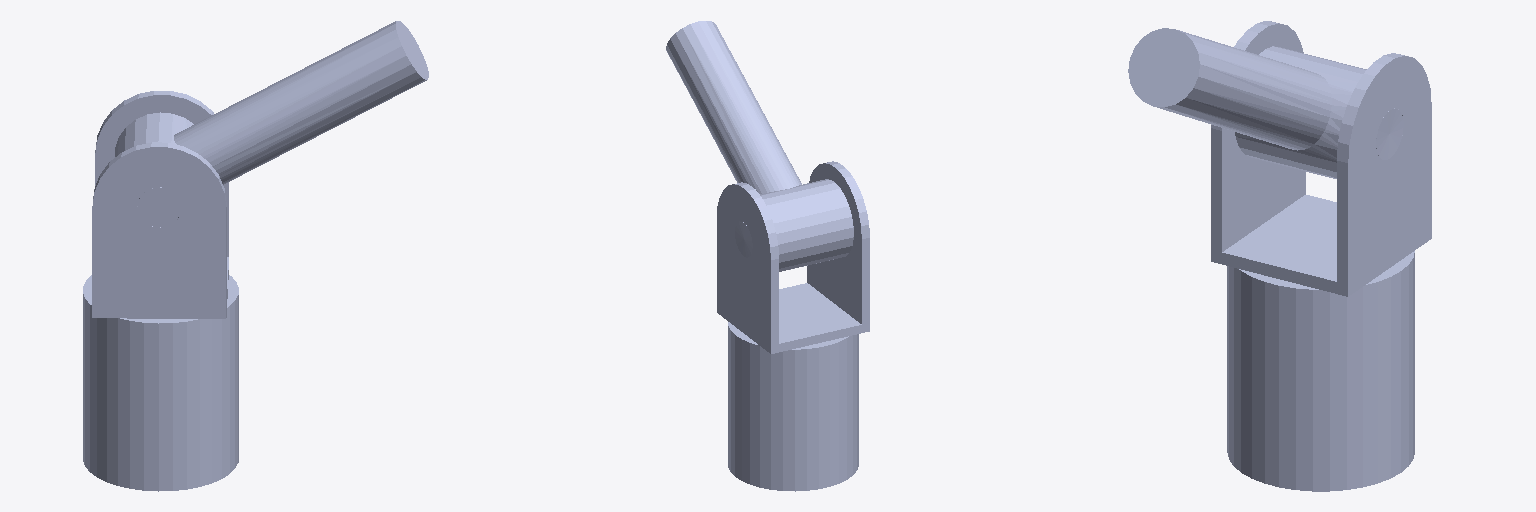
URDF robot description (simple_grip):
<robot
  name="simple_grip">
  <link
    name="base_link">
    <inertial>
      <origin
        xyz="0.0251523239596374 0.0207801633747139 0.0820947860786335"
        rpy="0 0 0" />
      <mass
        value="0.0847444618305853" />
      <inertia
        ixx="0"
        ixy="0"
        ixz="0"
        iyy="0"
        iyz="0"
        izz="0" />
    </inertial>
    <visual>
      <origin
        xyz="0 0 0"
        rpy="0 0 0" />
      <geometry>
        <mesh
          filename="package://simple_grip/meshes/base_link.STL" />
      </geometry>
      <material
        name="">
        <color
          rgba="0.792156862745098 0.819607843137255 0.933333333333333 1" />
      </material>
    </visual>
    <collision>
      <origin
        xyz="0 0 0"
        rpy="0 0 0" />
      <geometry>
        <mesh
          filename="package://simple_grip/meshes/base_link.STL" />
      </geometry>
    </collision>
  </link>
  <link
    name="First_Link">
    <inertial>
      <origin
        xyz="-1.38777878078145E-17 0.0542024176844595 -1.38777878078145E-17"
        rpy="0 0 0" />
      <mass
        value="0.12811061266654" />
      <inertia
        ixx="0"
        ixy="0"
        ixz="0"
        iyy="0"
        iyz="0"
        izz="0" />
    </inertial>
    <visual>
      <origin
        xyz="0 0 0"
        rpy="0 0 0" />
      <geometry>
        <mesh
          filename="package://simple_grip/meshes/First_Link.STL" />
      </geometry>
      <material
        name="">
        <color
          rgba="0.792156862745098 0.819607843137255 0.933333333333333 1" />
      </material>
    </visual>
    <collision>
      <origin
        xyz="0 0 0"
        rpy="0 0 0" />
      <geometry>
        <mesh
          filename="package://simple_grip/meshes/First_Link.STL" />
      </geometry>
    </collision>
  </link>
  <joint
    name="Joint1"
    type="continuous">
    <origin
      xyz="0.025152 -0.082095 0"
      rpy="1.5708 3.1786E-17 2.5958" />
    <parent
      link="base_link" />
    <child
      link="First_Link" />
    <axis
      xyz="0 1 0" />
  </joint>
  <link
    name="Second_Link">
    <inertial>
      <origin
        xyz="-0.0382855741370538 5.17743736216936E-08 -7.35539912745525E-05"
        rpy="0 0 0" />
      <mass
        value="0.152333571535865" />
      <inertia
        ixx="0"
        ixy="0"
        ixz="0"
        iyy="0"
        iyz="0"
        izz="0" />
    </inertial>
    <visual>
      <origin
        xyz="0 0 0"
        rpy="0 0 0" />
      <geometry>
        <mesh
          filename="package://simple_grip/meshes/Second_Link.STL" />
      </geometry>
      <material
        name="">
        <color
          rgba="0.792156862745098 0.819607843137255 0.933333333333333 1" />
      </material>
    </visual>
    <collision>
      <origin
        xyz="0 0 0"
        rpy="0 0 0" />
      <geometry>
        <mesh
          filename="package://simple_grip/meshes/Second_Link.STL" />
      </geometry>
    </collision>
  </link>
  <joint
    name="Second_joint"
    type="continuous">
    <origin
      xyz="0 0.11728 0"
      rpy="3.5805E-15 -4.996E-16 -0.52309" />
    <parent
      link="First_Link" />
    <child
      link="Second_Link" />
    <axis
      xyz="0 0 -1" />
  </joint>
</robot>

--- Facts derived from the render (not from the file) ---
Views: 3 orthographic renders of the robot side by side, from view 1: azimuth 30°, elevation 25°; view 2: azimuth 150°, elevation 25°; view 3: azimuth 270°, elevation 25°.
Robot: simple_grip — 3 links, 2 joints (2 continuous); root link base_link; default pose: all joints at 0.
Links seen in each view (by area): view 1: base_link, First_Link, Second_Link; view 2: base_link, First_Link, Second_Link; view 3: base_link, First_Link, Second_Link.
Link boxes in pixels (x1,y1,x2,y2): base_link: [83, 275, 238, 491]; First_Link: [92, 91, 228, 318]; Second_Link: [115, 21, 428, 227]; base_link: [728, 322, 858, 491]; First_Link: [717, 161, 869, 353]; Second_Link: [666, 21, 853, 271]; base_link: [1227, 251, 1414, 491]; First_Link: [1211, 21, 1431, 296]; Second_Link: [1128, 28, 1403, 178].
Bounding box of the posed robot: 0.1475 × 0.1132 × 0.2159 m (x, y, z).
Meshes: 3 distinct files referenced, 3 mesh visuals loaded (3 binary STL).